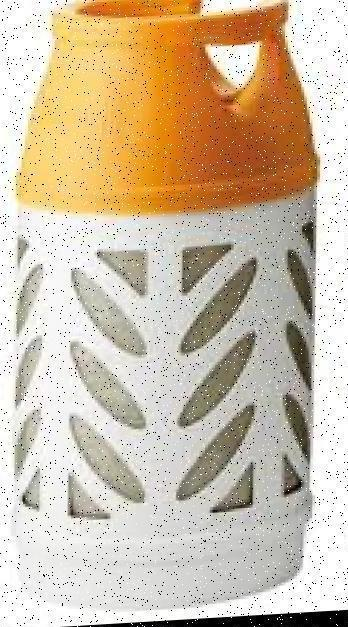cylinder: (1, 0, 348, 627)
